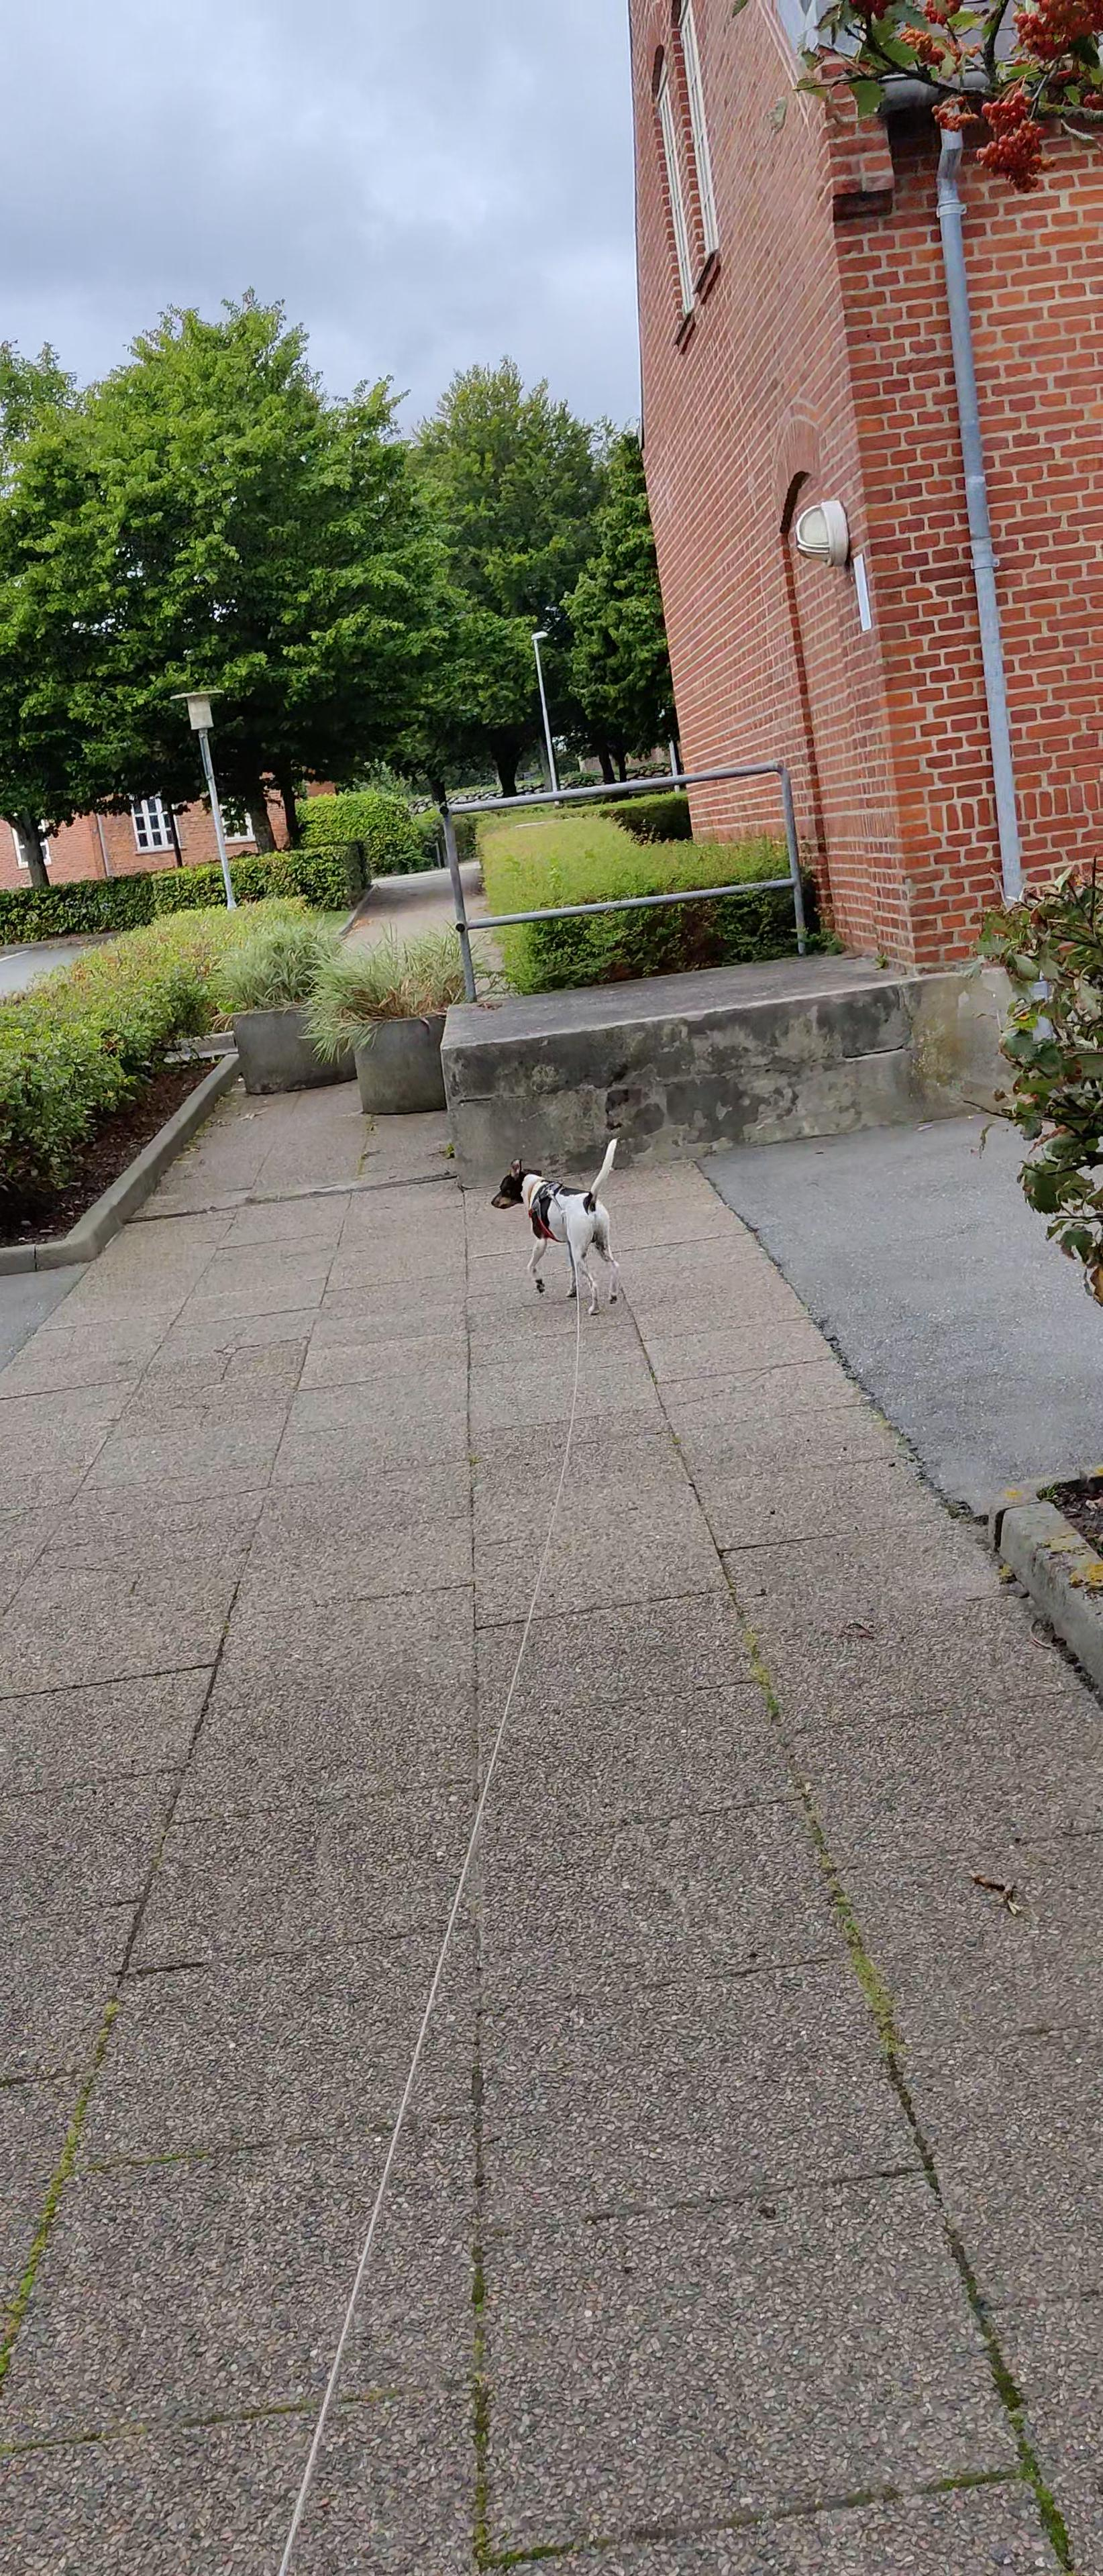Dog: (490, 1129, 626, 1321)
